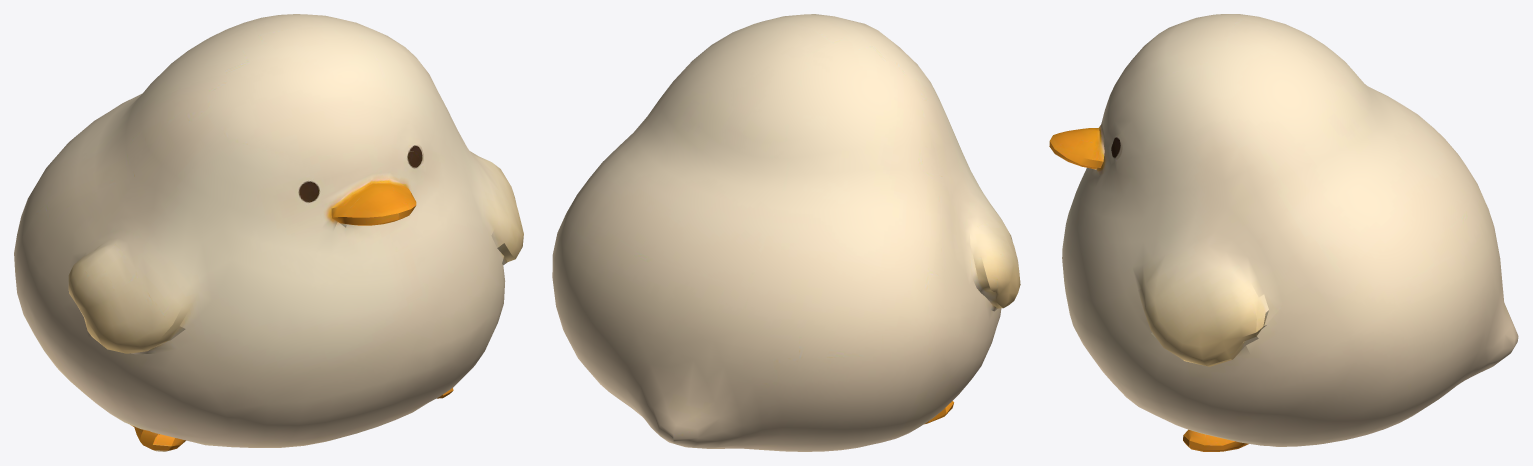
Rendered from Animal_Bird_01.glb.
3 renders of one model, left to right at view 1: azimuth 30°, elevation 25°; view 2: azimuth 150°, elevation 25°; view 3: azimuth 270°, elevation 25°, orthographic. The views are drawn at different scales.
Visible parts, largest first — view 1: Animal_Bird_01.001; view 2: Animal_Bird_01.001; view 3: Animal_Bird_01.001.
Boxes of the visible parts, x1,y1,x2,y2 form: Animal_Bird_01.001: (14, 14, 523, 451); Animal_Bird_01.001: (552, 14, 1020, 451); Animal_Bird_01.001: (1049, 14, 1518, 451).
Bounding box in the file's own units: 1 × 0.8613 × 0.9984.
Materials: 1 (1 with a texture image).
